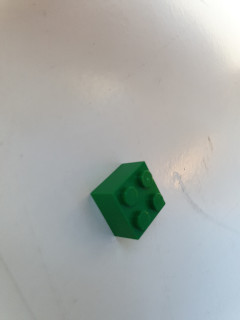2x2 green: (89, 160, 167, 241)
